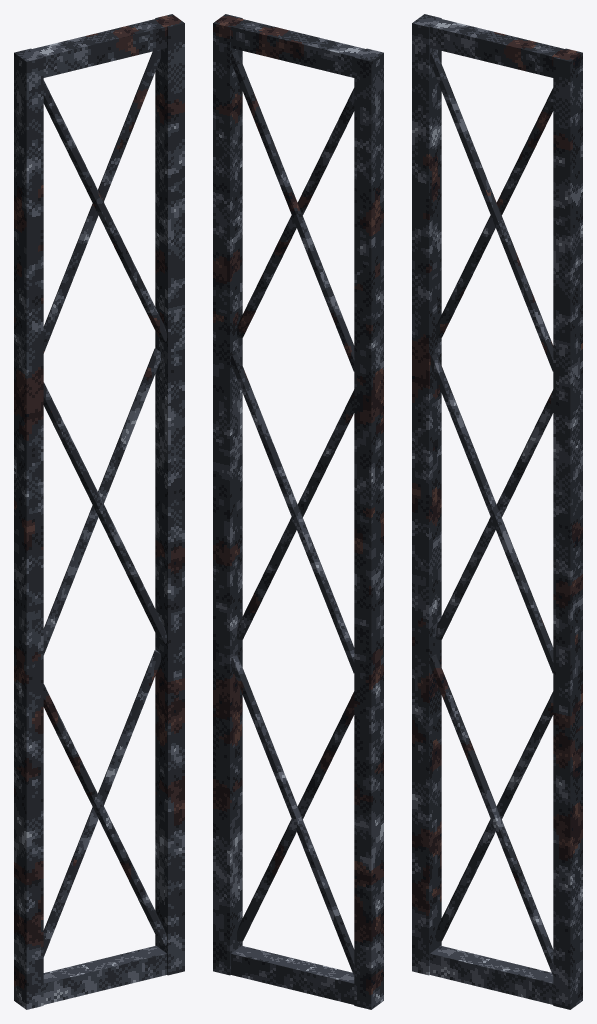
Rendered from SM_Prop_LobbyElevatorGatePanel_01.glb.
The picture shows the model from 3 angles, left to right: view 1: azimuth 30°, elevation 25°; view 2: azimuth 150°, elevation 25°; view 3: azimuth 330°, elevation 25°; orthographic projection.
Parts seen in each view (by area): view 1: iron_upright_0, iron_upright_1, iron_rail_1, iron_rail_0, iron_diagonal_forward_1, iron_diagonal_forward_0, iron_diagonal_forward_2, iron_diagonal_back_2, iron_diagonal_back_0, iron_diagonal_back_1; view 2: iron_upright_0, iron_upright_1, iron_rail_1, iron_rail_0, iron_diagonal_forward_2, iron_diagonal_forward_0, iron_diagonal_forward_1, iron_diagonal_back_0, iron_diagonal_back_1, iron_diagonal_back_2; view 3: iron_upright_1, iron_upright_0, iron_rail_1, iron_rail_0, iron_diagonal_back_2, iron_diagonal_back_0, iron_diagonal_back_1, iron_diagonal_forward_0, iron_diagonal_forward_1, iron_diagonal_forward_2.
Part boxes in pixels (x1,y1,x2,y2): iron_upright_0: [14, 48, 43, 1009]; iron_upright_1: [155, 14, 184, 975]; iron_rail_1: [32, 19, 166, 77]; iron_rail_0: [43, 946, 166, 1004]; iron_diagonal_forward_1: [43, 348, 160, 654]; iron_diagonal_forward_0: [43, 650, 160, 956]; iron_diagonal_forward_2: [43, 49, 160, 353]; iron_diagonal_back_2: [43, 80, 166, 341]; iron_diagonal_back_0: [43, 684, 166, 945]; iron_diagonal_back_1: [43, 382, 166, 643]; iron_upright_0: [354, 48, 383, 1009]; iron_upright_1: [213, 14, 242, 975]; iron_rail_1: [231, 19, 365, 77]; iron_rail_0: [231, 946, 354, 1004]; iron_diagonal_forward_2: [231, 50, 354, 371]; iron_diagonal_forward_0: [231, 654, 354, 974]; iron_diagonal_forward_1: [231, 352, 354, 673]; iron_diagonal_back_0: [237, 691, 354, 941]; iron_diagonal_back_1: [237, 389, 354, 639]; iron_diagonal_back_2: [237, 88, 354, 337]; iron_upright_1: [553, 48, 582, 1009]; iron_upright_0: [412, 14, 441, 975]; iron_rail_1: [430, 19, 564, 77]; iron_rail_0: [430, 946, 553, 1004]; iron_diagonal_back_2: [430, 50, 553, 371]; iron_diagonal_back_0: [430, 654, 553, 974]; iron_diagonal_back_1: [430, 352, 553, 673]; iron_diagonal_forward_0: [436, 691, 553, 941]; iron_diagonal_forward_1: [436, 389, 553, 639]; iron_diagonal_forward_2: [436, 88, 553, 337].
Size of the model in its own units: 0.437 by 2.5 by 0.06.
1 material, 1 textured.
